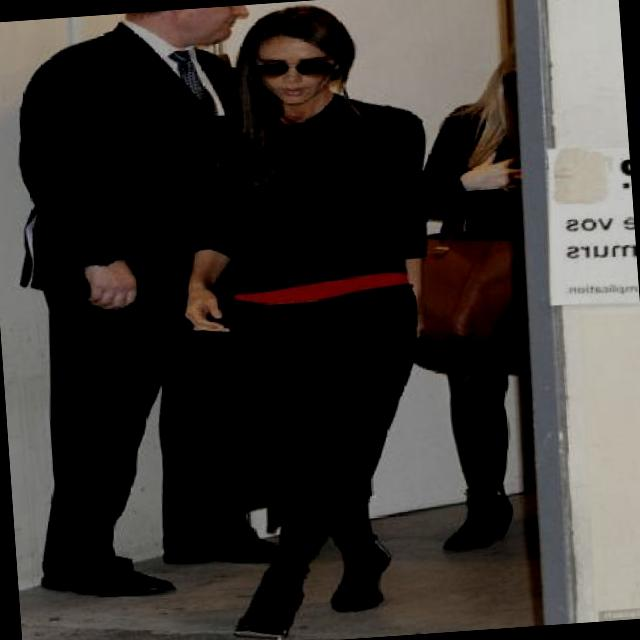Person: (105, 0, 500, 640)
